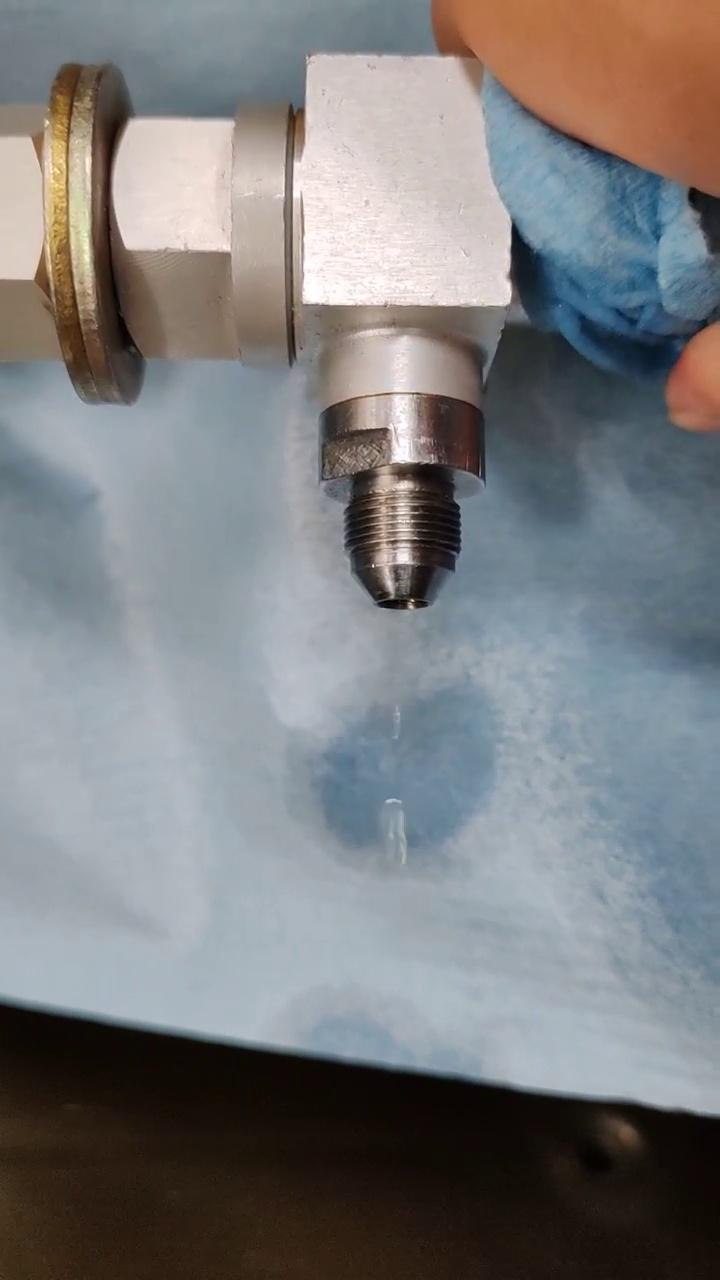water drop: (382, 796, 414, 871), (390, 702, 402, 741)
